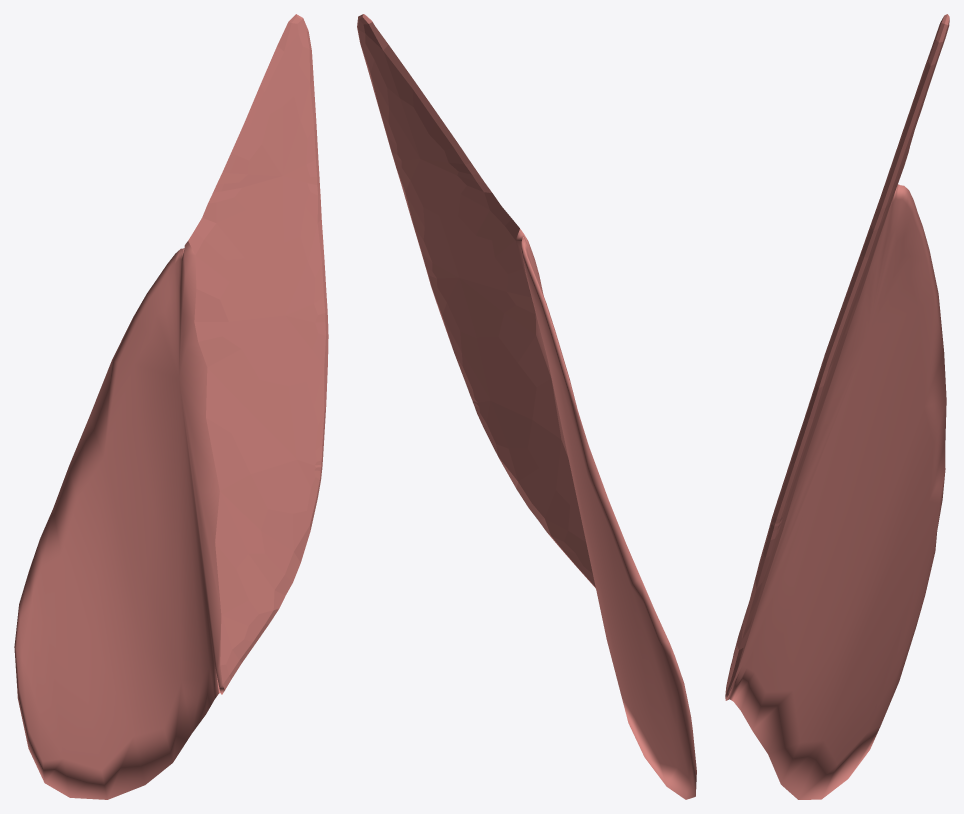
3 views of the same model, side by side, from view 1: azimuth 30°, elevation 25°; view 2: azimuth 150°, elevation 25°; view 3: azimuth 270°, elevation 25° (orthographic). The views are drawn at different scales.
Parts seen in each view (by area): view 1: ZA_689cc6310a5029ac; view 2: ZA_689cc6310a5029ac; view 3: ZA_689cc6310a5029ac.
Boxes of the visible parts, left/top/right/bottom form: ZA_689cc6310a5029ac: left=14, top=14, right=328, bottom=799; ZA_689cc6310a5029ac: left=357, top=14, right=696, bottom=799; ZA_689cc6310a5029ac: left=725, top=14, right=949, bottom=799.
Bounding box in the file's own units: 0.0217 × 0.0479 × 0.0103.
